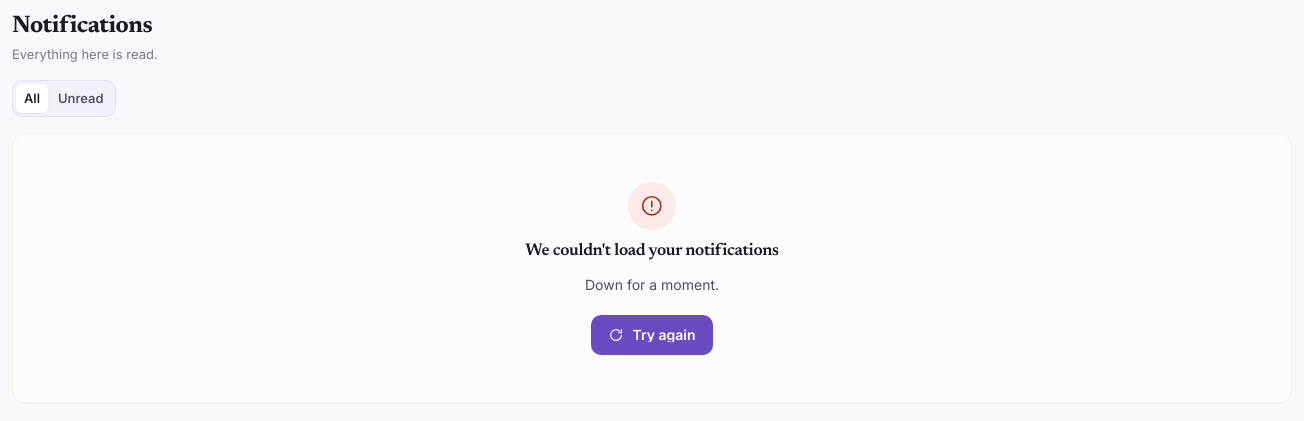
Test case: the list › says when the list did not load, and loads it on "Try again"
expect the heading "We couldn't load your notifications" is shown: met, box x1=525 y1=242 x2=779 y2=262
expect the text "Down for a moment." is shown: met, box x1=585 y1=274 x2=719 y2=295
Click the button "Try again" at point(652, 335), box x1=591 y1=315 x2=713 y2=355
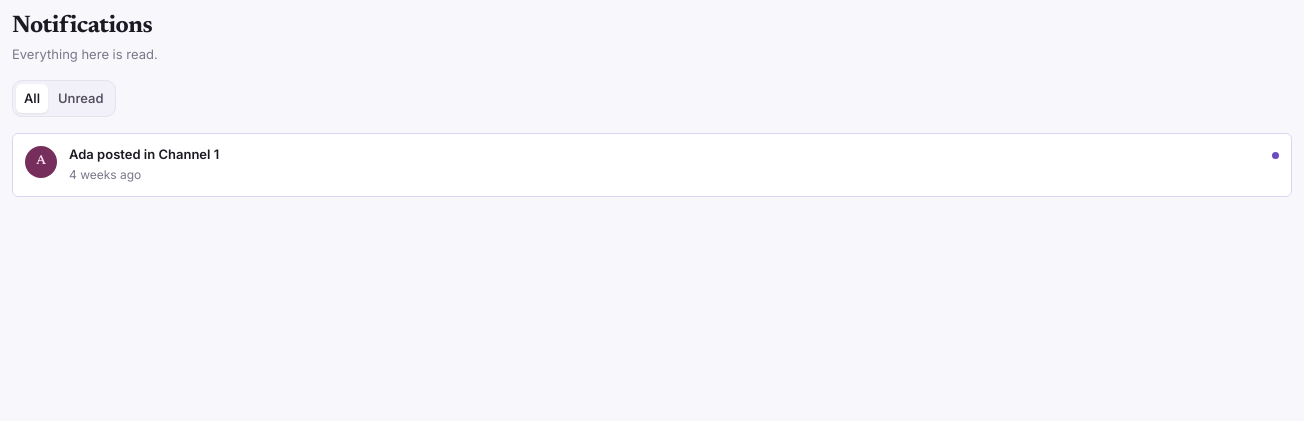
expect the number of buttons "A Ada posted in Channel 1 4 weeks ago" is 1: met, box x1=12 y1=133 x2=1292 y2=197
